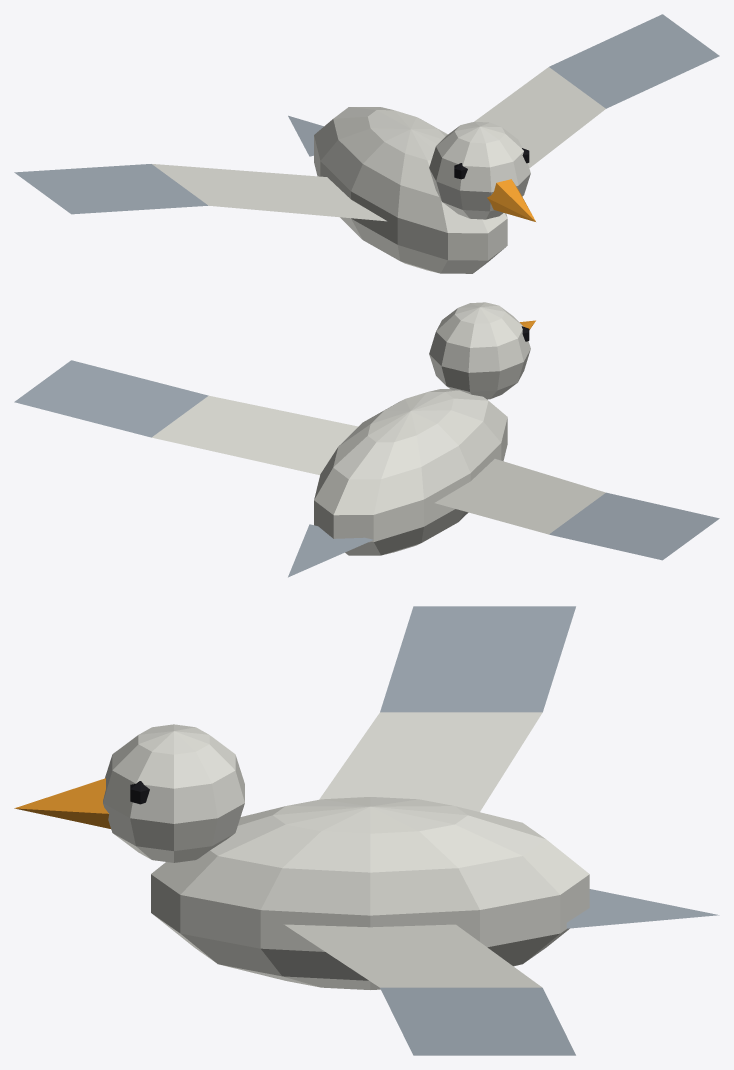
File: Seagull.obj
3 renders of one model, top to bottom at view 1: azimuth 30°, elevation 25°; view 2: azimuth 150°, elevation 25°; view 3: azimuth 270°, elevation 25°, orthographic. The views are drawn at different scales.
Visible parts, largest first — view 1: Seagull; view 2: Seagull; view 3: Seagull.
Boxes of the visible parts, x1=… form: Seagull: x1=14, y1=14, x2=719, y2=273; Seagull: x1=14, y1=302, x2=719, y2=577; Seagull: x1=14, y1=606, x2=719, y2=1055.
Bounding box in the file's own units: 1.11 × 0.287 × 0.737.
